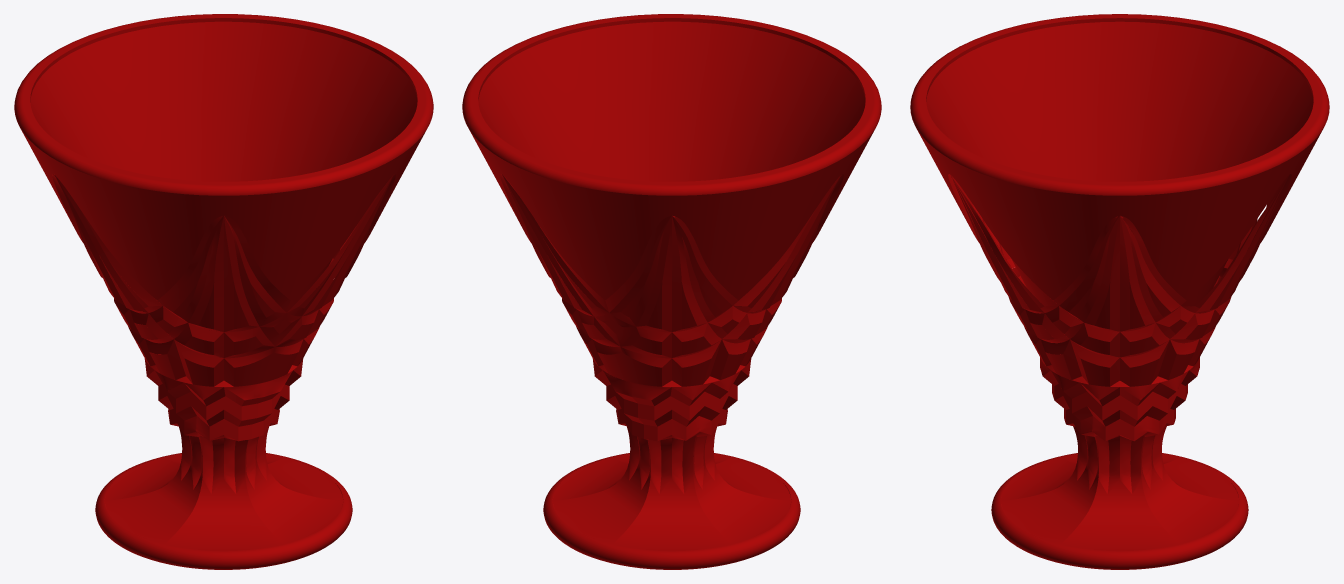
File: CM-MUG025.glb
3 renders of one model, left to right at view 1: azimuth 30°, elevation 25°; view 2: azimuth 150°, elevation 25°; view 3: azimuth 270°, elevation 25°, orthographic.
Bounding box in the file's own units: 0.105 × 0.116 × 0.105.
